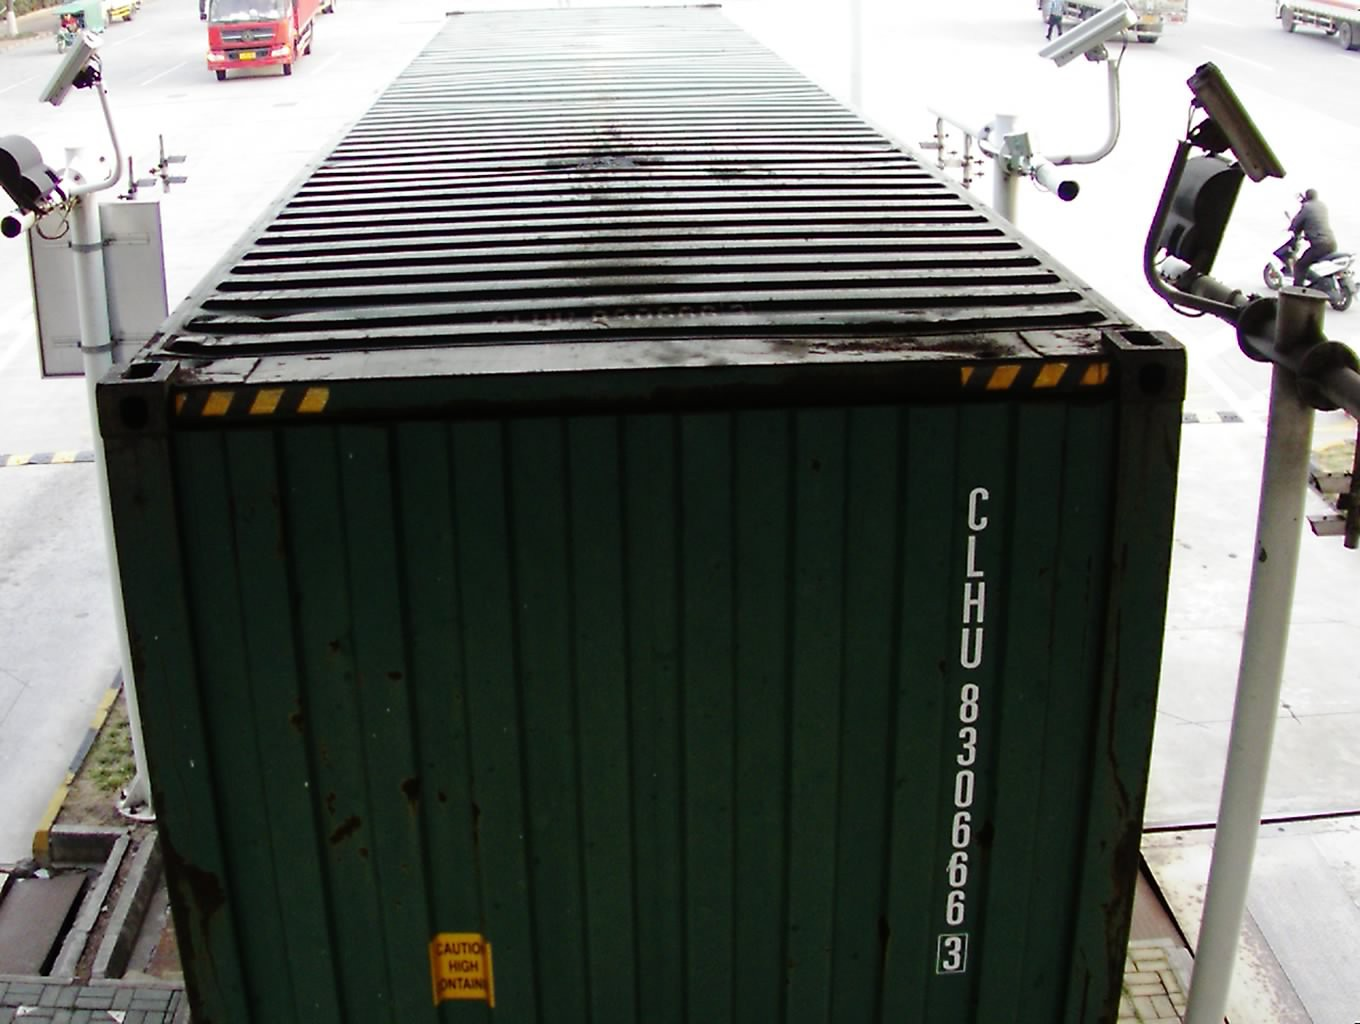words: (941, 471, 994, 981)
